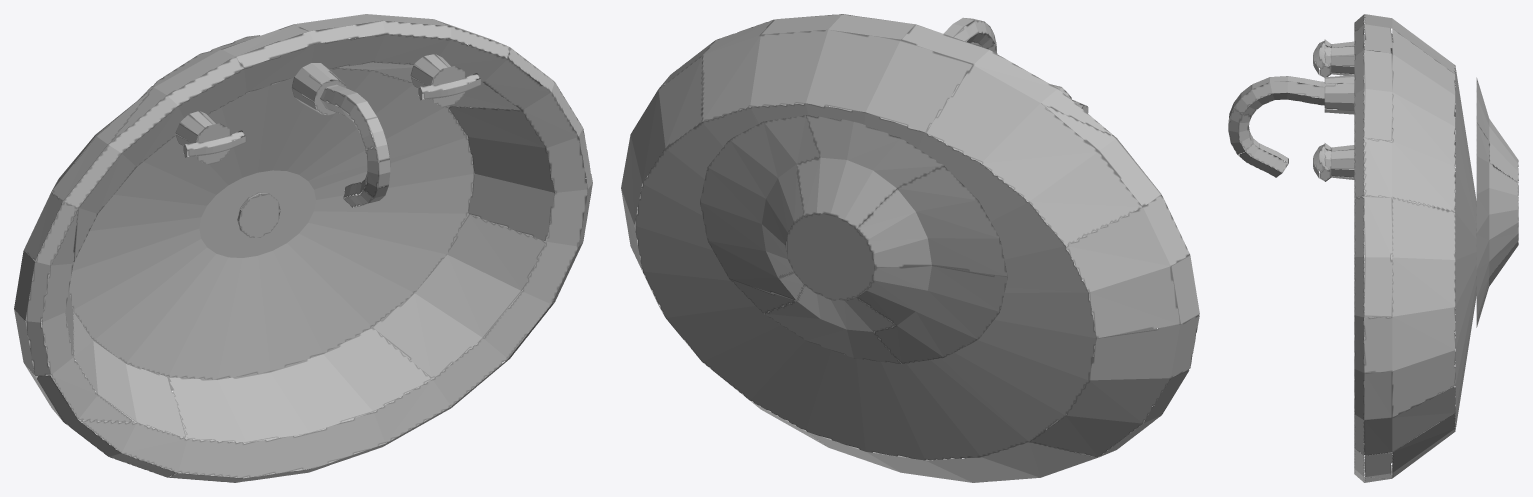
The model's file is pz_sink_white_hanging.obj.
3 renders of one model, left to right at view 1: azimuth 30°, elevation 25°; view 2: azimuth 150°, elevation 25°; view 3: azimuth 270°, elevation 25°, orthographic. The views are drawn at different scales.
Visible parts, largest first — view 1: pz_sink_white_hanging_|_open_rounded_ceramic_bowl, pz_sink_white_hanging_|_EDITABLE_curved_spout_|_export_mesh, pz_sink_white_hanging_|_faucet_socket, pz_sink_white_hanging_|_tap_stem_0.145, pz_sink_white_hanging_|_drain_disc, pz_sink_white_hanging_|_tap_stem_-0.145, pz_sink_white_hanging_|_EDITABLE_curved_tap_lever_0.145_|_export, pz_sink_white_hanging_|_EDITABLE_curved_tap_lever_-0.145_|_expor, pz_sink_white_hanging_|_closed_curved_underside; view 2: pz_sink_white_hanging_|_open_rounded_ceramic_bowl, pz_sink_white_hanging_|_closed_curved_underside, pz_sink_white_hanging_|_EDITABLE_curved_spout_|_export_mesh; view 3: pz_sink_white_hanging_|_open_rounded_ceramic_bowl, pz_sink_white_hanging_|_closed_curved_underside, pz_sink_white_hanging_|_EDITABLE_curved_spout_|_export_mesh, pz_sink_white_hanging_|_faucet_socket, pz_sink_white_hanging_|_tap_stem_0.145, pz_sink_white_hanging_|_tap_stem_-0.145, pz_sink_white_hanging_|_EDITABLE_curved_tap_lever_0.145_|_export, pz_sink_white_hanging_|_EDITABLE_curved_tap_lever_-0.145_|_expor.
Boxes of the visible parts, box(x1,y1,x2,y2) form: pz_sink_white_hanging_|_open_rounded_ceramic_bowl: box(14, 14, 592, 482); pz_sink_white_hanging_|_EDITABLE_curved_spout_|_export_mesh: box(316, 80, 390, 207); pz_sink_white_hanging_|_faucet_socket: box(291, 63, 346, 115); pz_sink_white_hanging_|_tap_stem_0.145: box(410, 54, 466, 107); pz_sink_white_hanging_|_drain_disc: box(237, 192, 280, 237); pz_sink_white_hanging_|_tap_stem_-0.145: box(175, 111, 231, 164); pz_sink_white_hanging_|_EDITABLE_curved_tap_lever_0.145_|_export: box(418, 73, 481, 100); pz_sink_white_hanging_|_EDITABLE_curved_tap_lever_-0.145_|_expor: box(183, 130, 246, 157); pz_sink_white_hanging_|_closed_curved_underside: box(138, 35, 275, 99); pz_sink_white_hanging_|_open_rounded_ceramic_bowl: box(621, 14, 1199, 482); pz_sink_white_hanging_|_closed_curved_underside: box(700, 115, 1007, 364); pz_sink_white_hanging_|_EDITABLE_curved_spout_|_export_mesh: box(943, 17, 997, 53); pz_sink_white_hanging_|_open_rounded_ceramic_bowl: box(1354, 14, 1476, 482); pz_sink_white_hanging_|_closed_curved_underside: box(1476, 77, 1518, 327); pz_sink_white_hanging_|_EDITABLE_curved_spout_|_export_mesh: box(1228, 76, 1337, 177); pz_sink_white_hanging_|_faucet_socket: box(1324, 75, 1354, 114); pz_sink_white_hanging_|_tap_stem_0.145: box(1324, 143, 1354, 181); pz_sink_white_hanging_|_tap_stem_-0.145: box(1324, 39, 1354, 76); pz_sink_white_hanging_|_EDITABLE_curved_tap_lever_0.145_|_export: box(1313, 144, 1330, 180); pz_sink_white_hanging_|_EDITABLE_curved_tap_lever_-0.145_|_expor: box(1313, 41, 1330, 77).
Bounding box in the file's own units: 0.7 × 0.52 × 0.3443.
1 material, 1 textured.
